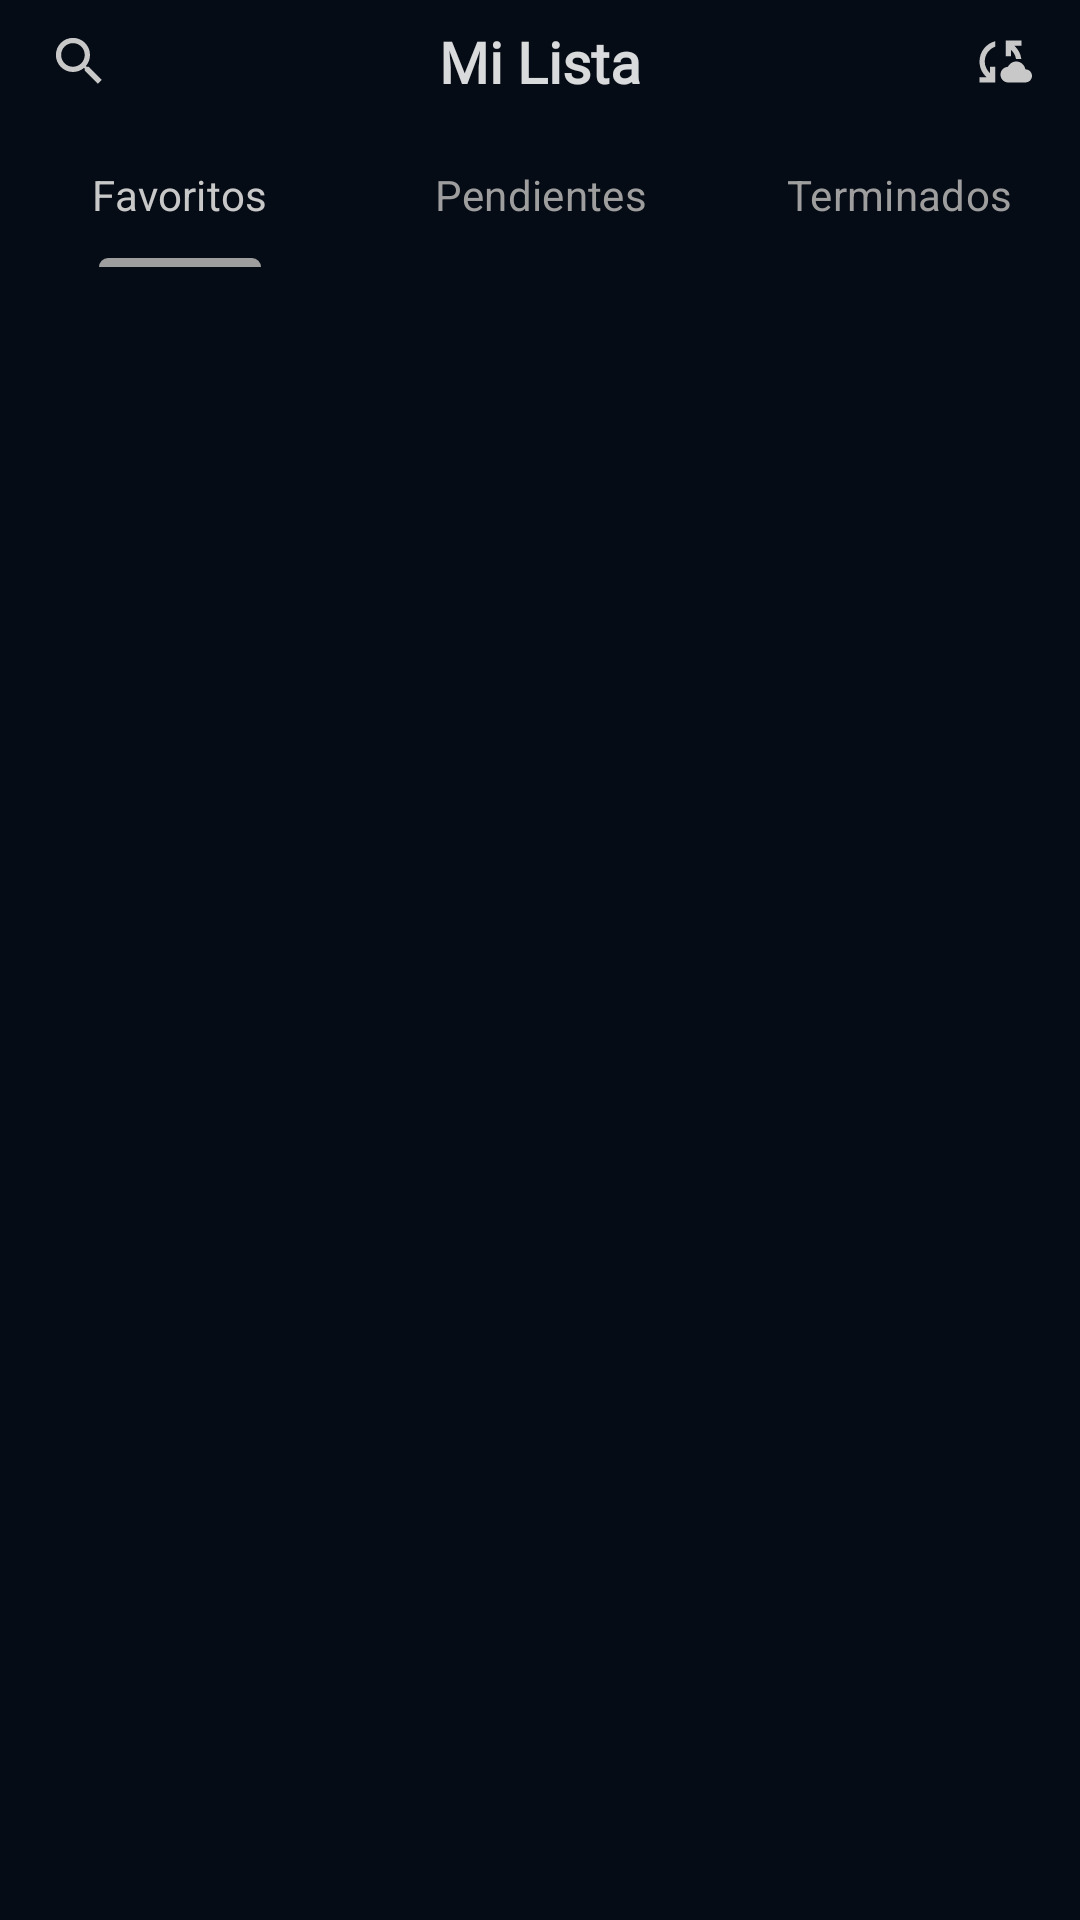

Where to tap for icons on this 1080w x 1920h app screen, as (x=x, y=y):
search: (x=79, y=61)
